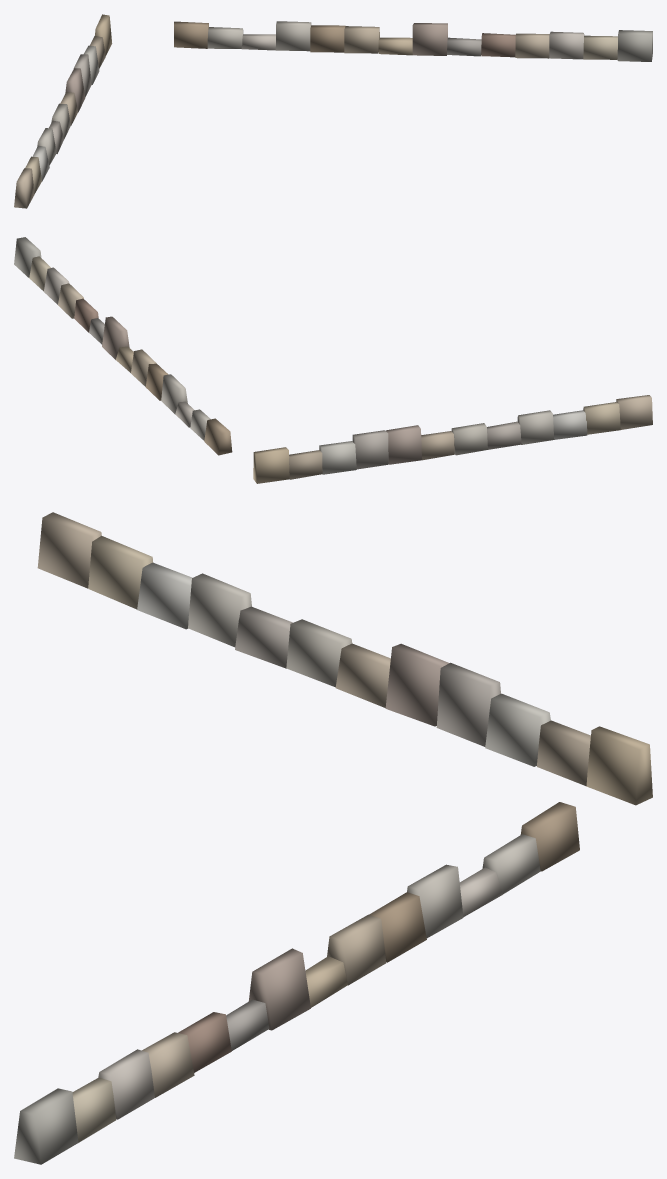
File: farm_-37_-40_far.glb
3 views of the same model, one above another, from view 1: azimuth 30°, elevation 25°; view 2: azimuth 150°, elevation 25°; view 3: azimuth 270°, elevation 25° (orthographic). The views are drawn at different scales.
Visible parts, largest first — view 1: geometry_0; view 2: geometry_0; view 3: geometry_0.
Part boxes in pixels (x1,y1,x2,y2): geometry_0: (14, 14, 652, 208); geometry_0: (14, 237, 652, 483); geometry_0: (14, 512, 652, 1164).
Size of the model in its own units: 33.57 by 1.62 by 14.97.
